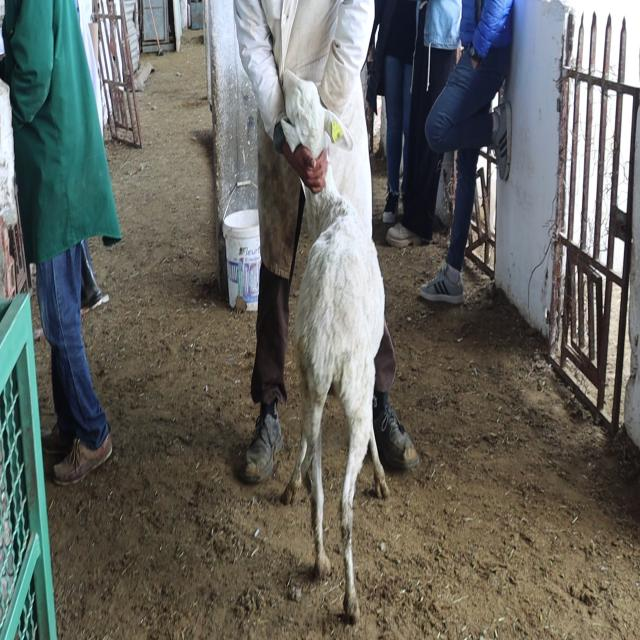Score_1: (280, 71, 389, 620)
